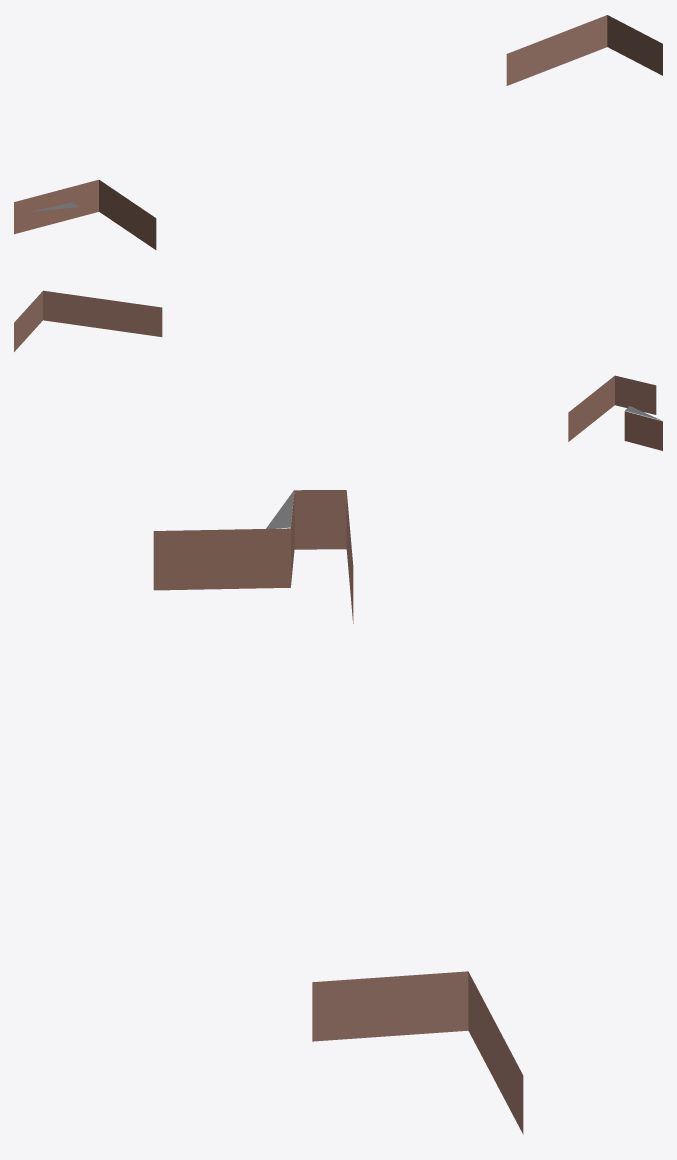
The model's file is c_1627_17828_buildings_residential.glb.
3 renders of one model, top to bottom at view 1: azimuth 30°, elevation 25°; view 2: azimuth 150°, elevation 25°; view 3: azimuth 270°, elevation 25°, orthographic. The views are drawn at different scales.
Visible parts, largest first — view 1: geometry_0; view 2: geometry_0; view 3: geometry_0.
Boxes of the visible parts, <box> form: geometry_0: <box>14,15,662,249</box>; geometry_0: <box>14,290,662,450</box>; geometry_0: <box>153,490,523,1134</box>.
Size of the model in its own units: 132 by 7.09 by 34.97.
